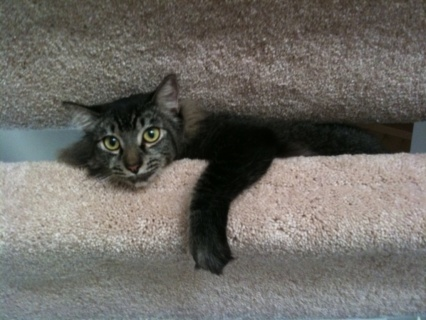Cat: (59, 69, 380, 273)
